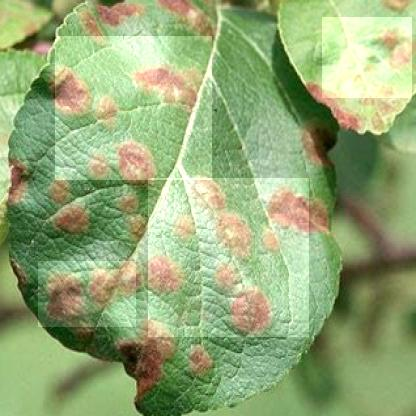black-spot: (148, 178, 309, 337), (55, 36, 212, 180), (322, 17, 412, 98), (38, 261, 136, 327)
